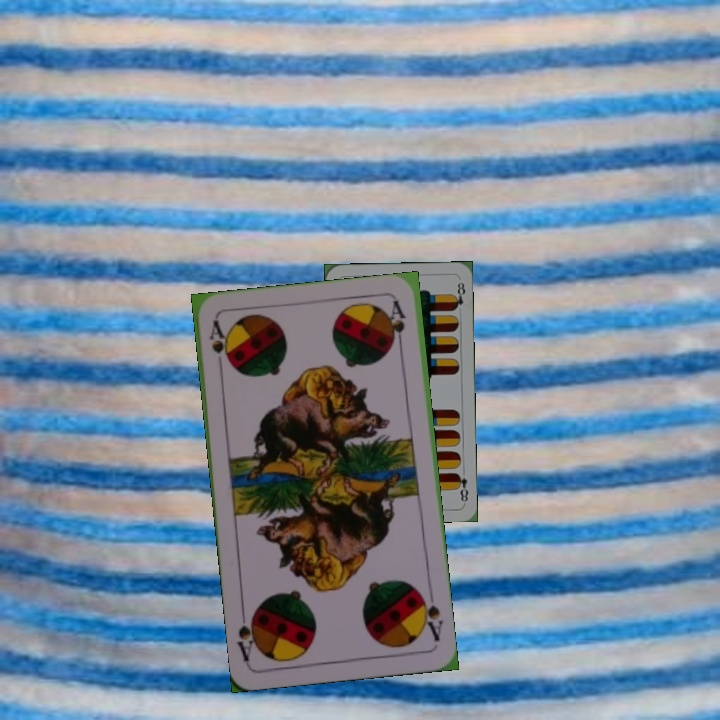E8: (452, 469, 471, 504)
SA: (415, 586, 446, 644), (205, 317, 232, 376)
